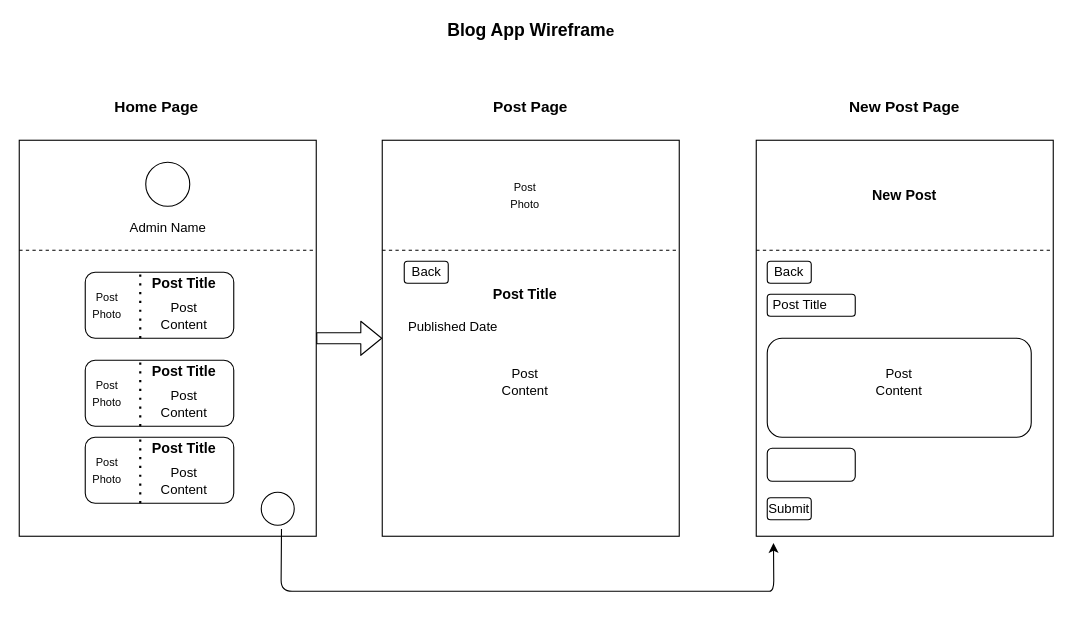
The diagram is 1074 pixels wide and 619 high, and some of its shapes have lost their labels. The box of each missing label's shape, as (x1, y1, x2, y2) in pixels:
Add Post: (260, 491, 294, 525)
Admin Photo: (145, 161, 190, 206)
Choose Image: (766, 447, 855, 481)
